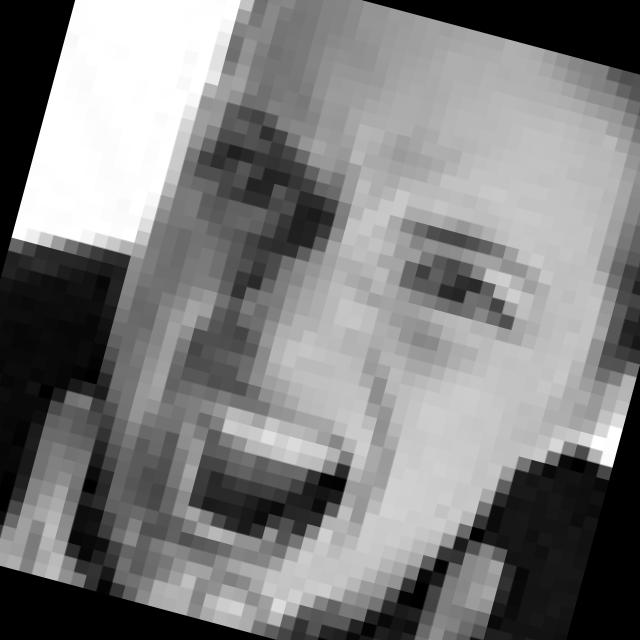angry: (96, 89, 570, 624)
